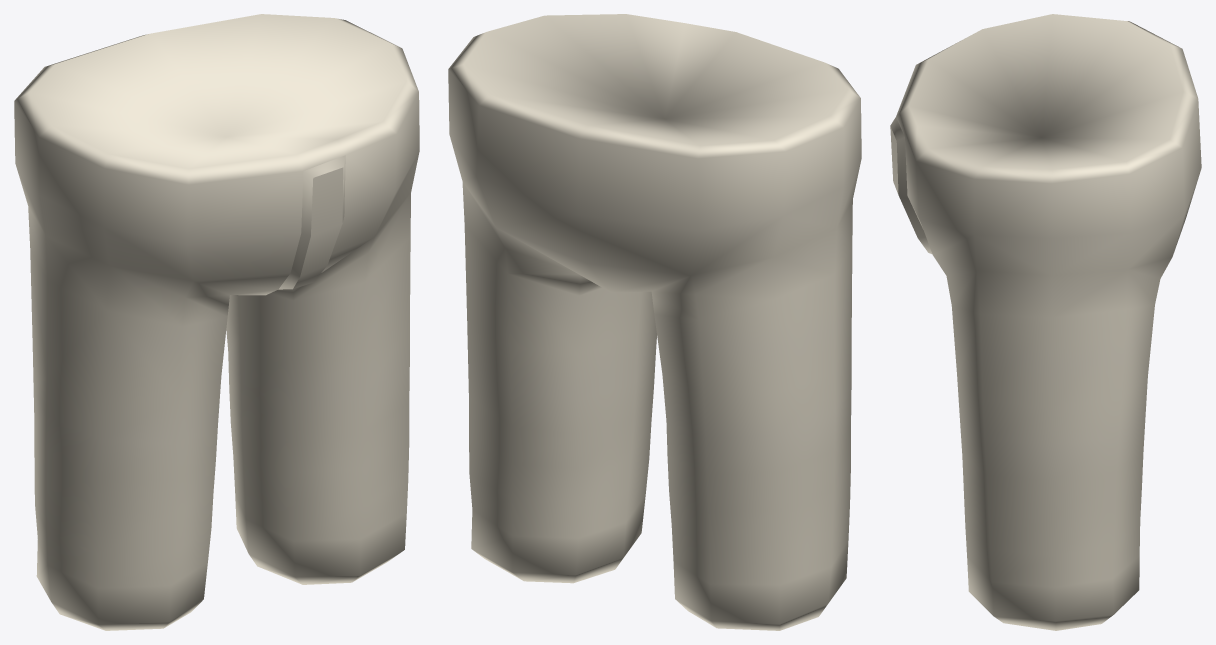
File: Bottom_27.fbx
3 views of the same model, side by side, from view 1: azimuth 30°, elevation 25°; view 2: azimuth 150°, elevation 25°; view 3: azimuth 270°, elevation 25° (orthographic). The views are drawn at different scales.
Visible parts, largest first — view 1: Bottom_27; view 2: Bottom_27; view 3: Bottom_27.
Part boxes in pixels (x1,y1,x2,y2): Bottom_27: (14,14,419,630); Bottom_27: (448,14,861,630); Bottom_27: (890,14,1201,630).
Bounding box in the file's own units: 38.53 × 50.18 × 30.23.
